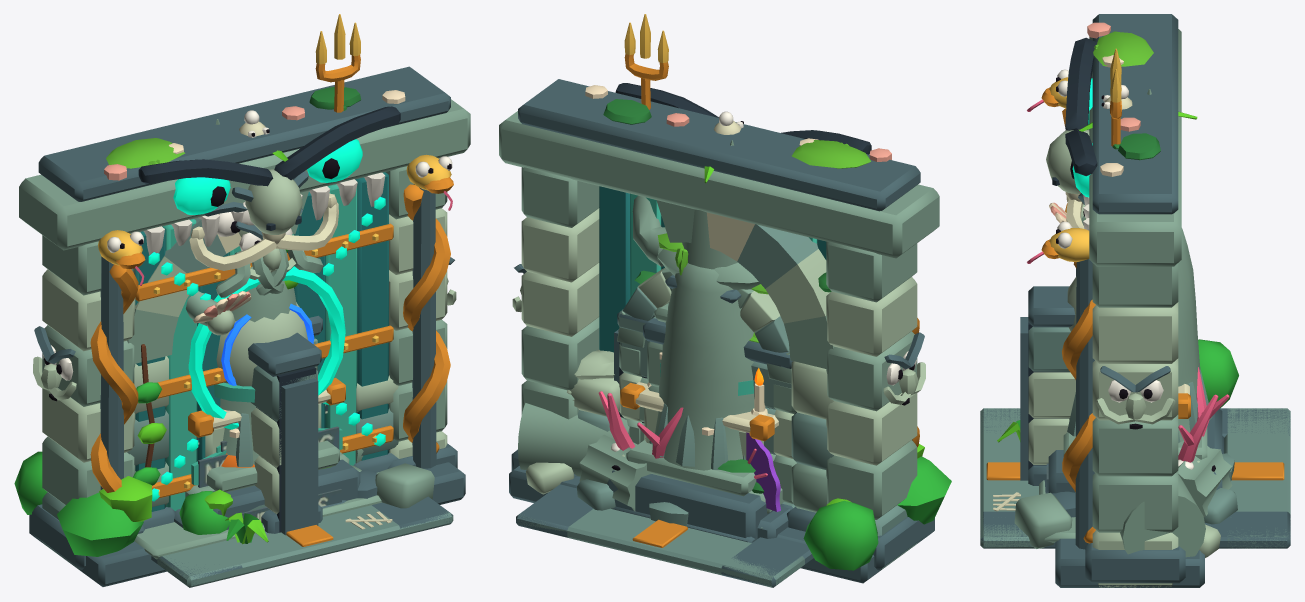
Rendered from dungeon.glb.
The picture shows the model from 3 angles, left to right: view 1: azimuth 30°, elevation 25°; view 2: azimuth 150°, elevation 25°; view 3: azimuth 270°, elevation 25°; orthographic projection. The views are drawn at different scales.
Visible parts, largest first — view 1: BossDoor, RuinArch, Statue, WallCorner, SpikeTrap, RuinColumn, Altar; view 2: BossDoor, Statue, RuinArch, SpikeTrap, Arch, RuinColumn, Altar, CoralGrowth, PillarBroken, WallEnd, Wall; view 3: BossDoor, SpikeTrap, WallCorner, Statue, RuinArch, RuinColumn, PillarBroken, CoralGrowth, Altar.
Boxes of the visible parts, left/top/right/bottom form: BossDoor: left=19, top=66, right=470, bottom=586; RuinArch: left=14, top=191, right=434, bottom=556; Statue: left=186, top=14, right=360, bottom=529; WallCorner: left=248, top=332, right=322, bottom=535; SpikeTrap: left=151, top=496, right=453, bottom=587; RuinColumn: left=179, top=119, right=377, bottom=534; Altar: left=174, top=378, right=349, bottom=530; BossDoor: left=499, top=79, right=939, bottom=583; Statue: left=607, top=14, right=772, bottom=539; RuinArch: left=526, top=200, right=951, bottom=570; SpikeTrap: left=516, top=484, right=813, bottom=587; Arch: left=614, top=268, right=796, bottom=510; RuinColumn: left=518, top=140, right=762, bottom=528; Altar: left=620, top=368, right=789, bottom=538; CoralGrowth: left=598, top=391, right=780, bottom=511; PillarBroken: left=579, top=434, right=650, bottom=511; WallEnd: left=643, top=303, right=791, bottom=454; Wall: left=616, top=312, right=795, bottom=507; BossDoor: left=1027, top=14, right=1204, bottom=587; SpikeTrap: left=980, top=408, right=1290, bottom=548; WallCorner: left=1020, top=286, right=1075, bottom=485; Statue: left=1046, top=48, right=1222, bottom=493; RuinArch: left=997, top=218, right=1238, bottom=557; RuinColumn: left=1052, top=89, right=1234, bottom=557; PillarBroken: left=1075, top=446, right=1232, bottom=516; CoralGrowth: left=1044, top=367, right=1229, bottom=493; Altar: left=1178, top=384, right=1190, bottom=418.
Bounding box in the file's own units: 4.5 × 5.35 × 2.9.
8 materials, 3 textured.
